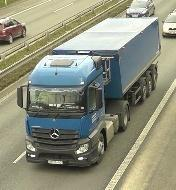car: (2, 16, 27, 46), (126, 0, 155, 17), (163, 8, 176, 37)
truck: (16, 18, 159, 168)
